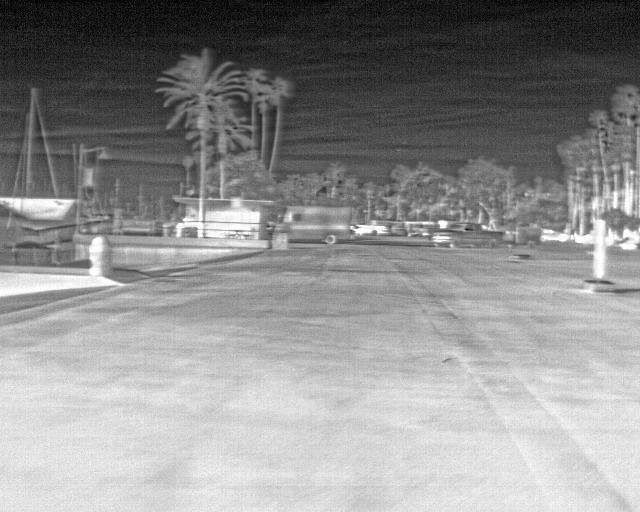car: (269, 204, 354, 244), (429, 220, 503, 250), (355, 221, 375, 237), (368, 218, 386, 235), (401, 220, 416, 236), (416, 222, 429, 238), (386, 219, 400, 233)
